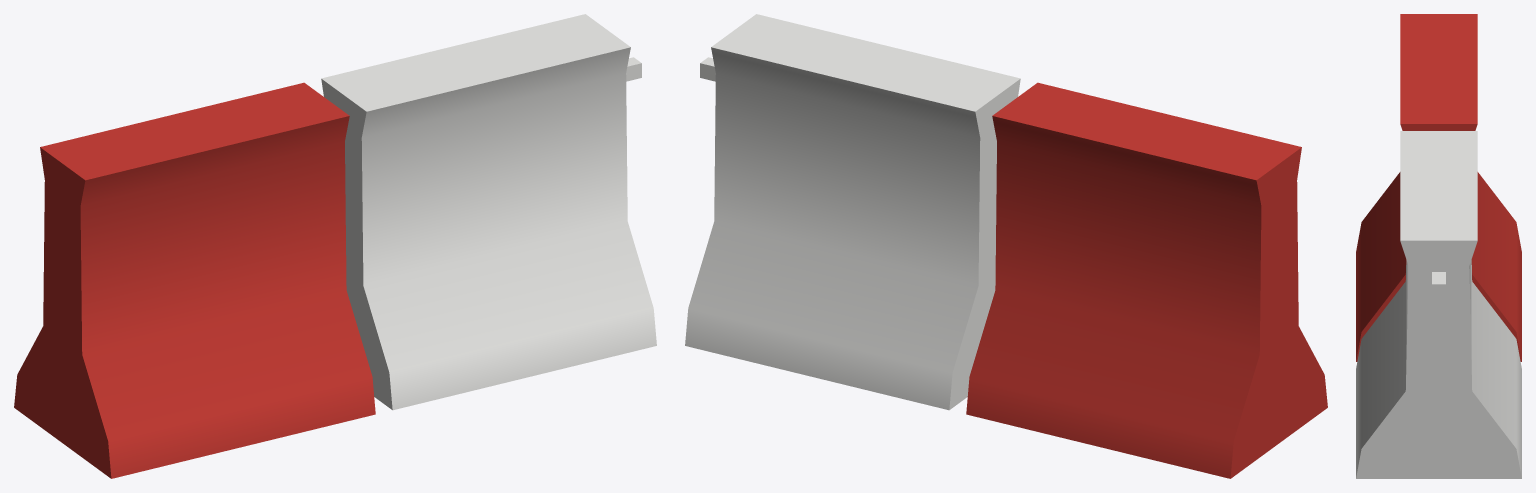
File: SM_Barrier_Water.fbx
The picture shows the model from 3 angles, left to right: view 1: azimuth 30°, elevation 25°; view 2: azimuth 150°, elevation 25°; view 3: azimuth 270°, elevation 25°; orthographic projection. The views are drawn at different scales.
Parts seen in each view (by area): view 1: SM_Barrier_Water; view 2: SM_Barrier_Water; view 3: SM_Barrier_Water.
Boxes of the visible parts, left/top/right/bottom form: SM_Barrier_Water: left=14, top=14, right=656, bottom=478; SM_Barrier_Water: left=685, top=14, right=1327, bottom=478; SM_Barrier_Water: left=1356, top=14, right=1521, bottom=478.
Bounding box in the file's own units: 205 × 95 × 60.
